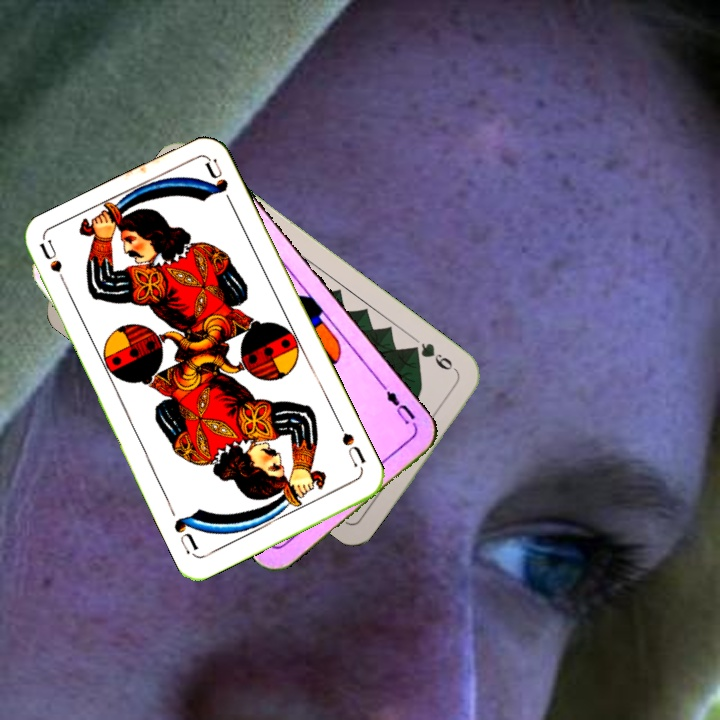EU: (379, 382, 420, 433)
G9: (406, 338, 461, 377)
SU: (36, 237, 72, 295), (334, 418, 368, 474)
